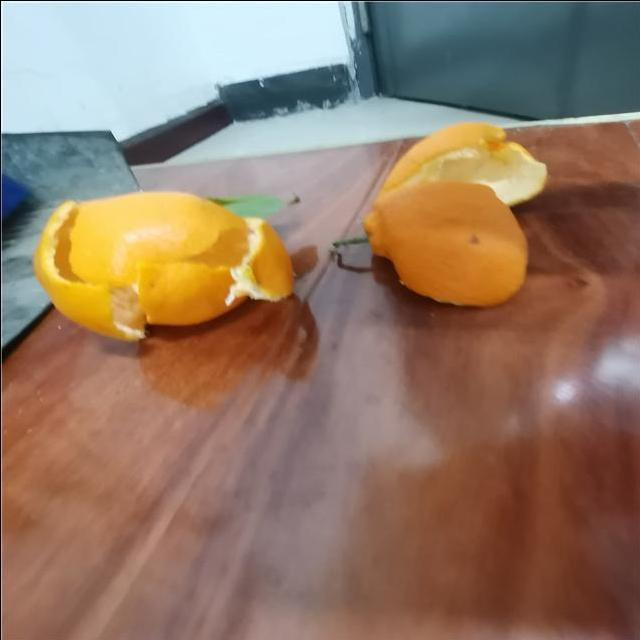orange peel: (341, 104, 563, 350), (27, 177, 316, 361)
